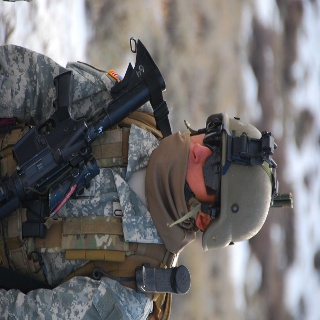rifle: (1, 36, 167, 214)
